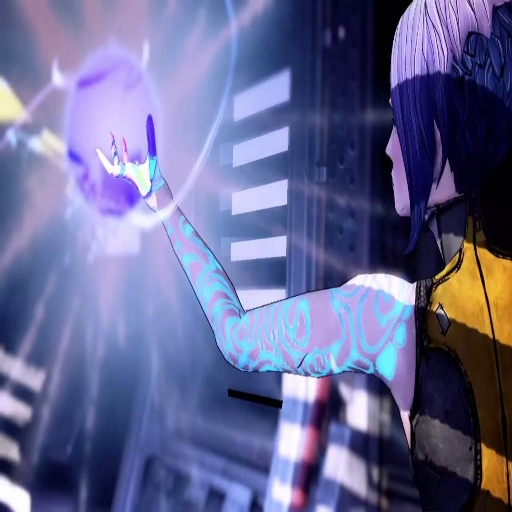hand: (97, 119, 173, 199)
